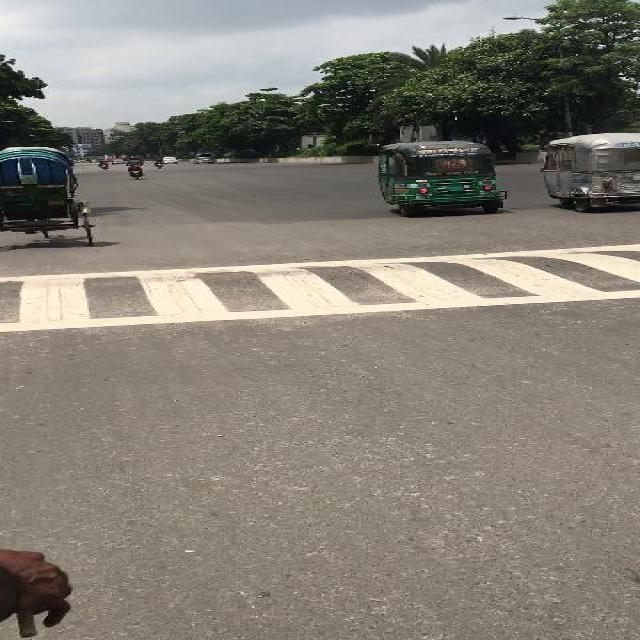car: (164, 156, 177, 164), (112, 158, 123, 164)
minivan: (191, 152, 214, 164)
motorbike: (124, 156, 143, 178), (95, 156, 108, 170), (153, 155, 163, 169)
rickshaw: (0, 145, 71, 245)
three wheelers -CNG-: (369, 138, 509, 216), (538, 130, 639, 214)
